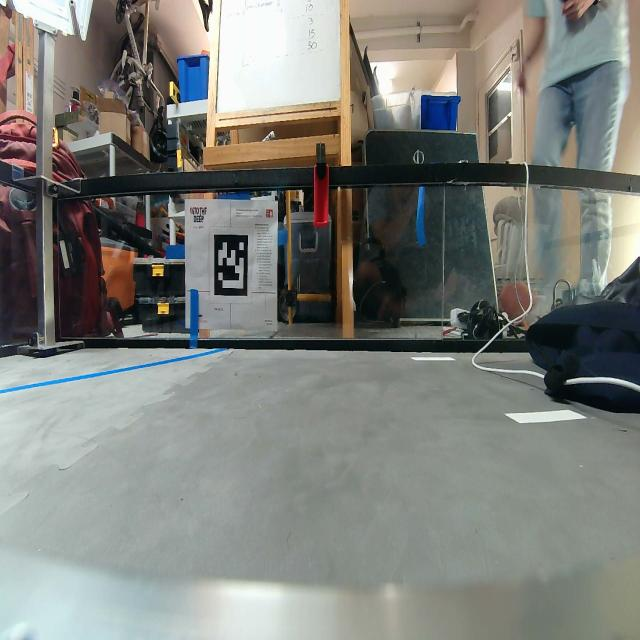specimen_block_red: (313, 160, 331, 229)
